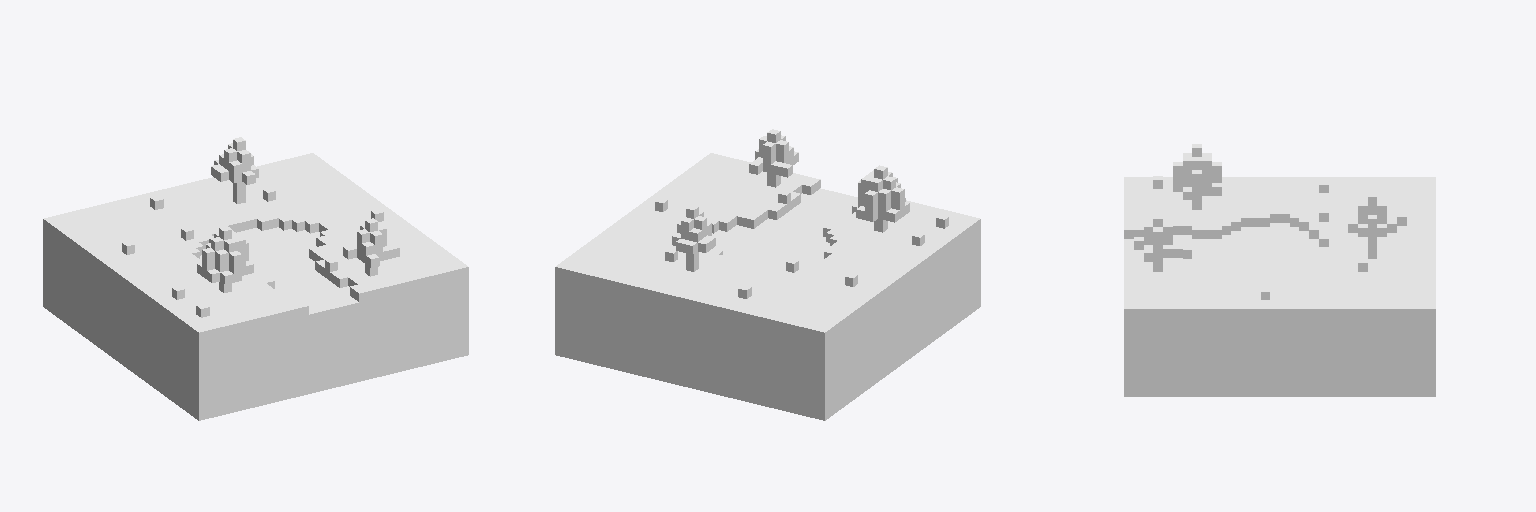
Rendered from Overworld_Land_03.obj.
3 views of the same model, side by side, from view 1: azimuth 30°, elevation 25°; view 2: azimuth 150°, elevation 25°; view 3: azimuth 270°, elevation 25° (orthographic).
Parts seen in each view (by area): view 1: object 1; view 2: object 1; view 3: object 1.
Boxes of the visible parts, x1=… form: object 1: x1=43, y1=137, x2=468, y2=420; object 1: x1=555, y1=129, x2=980, y2=420; object 1: x1=1124, y1=144, x2=1435, y2=396.
Size of the model in its own units: 3.2 by 1.7 by 3.2.